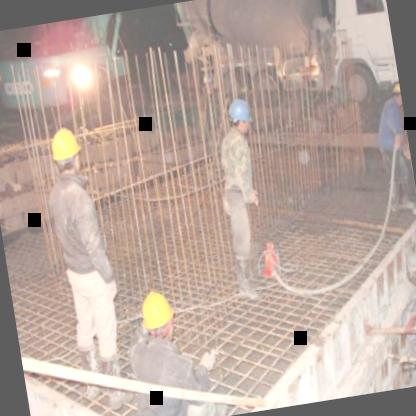helmet: (136, 283, 180, 348), (46, 122, 86, 181), (222, 96, 252, 136), (390, 80, 402, 110)
